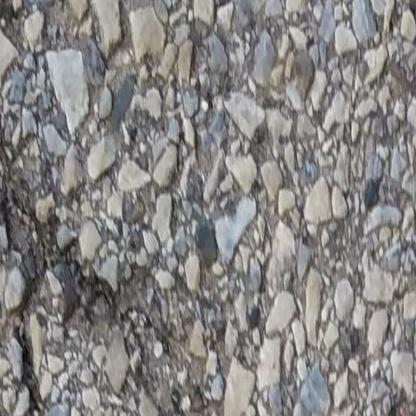Cracks: (0, 101, 218, 416), (373, 392, 416, 416)
